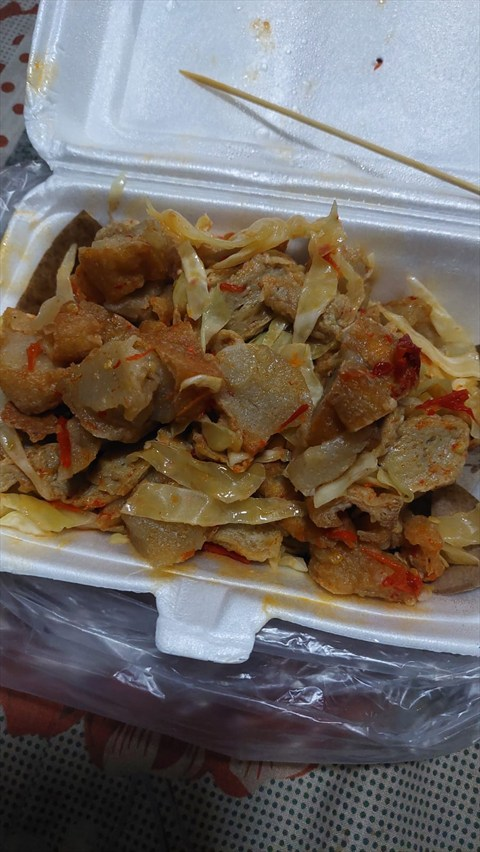Tahu Goreng: (19, 77, 440, 683)
